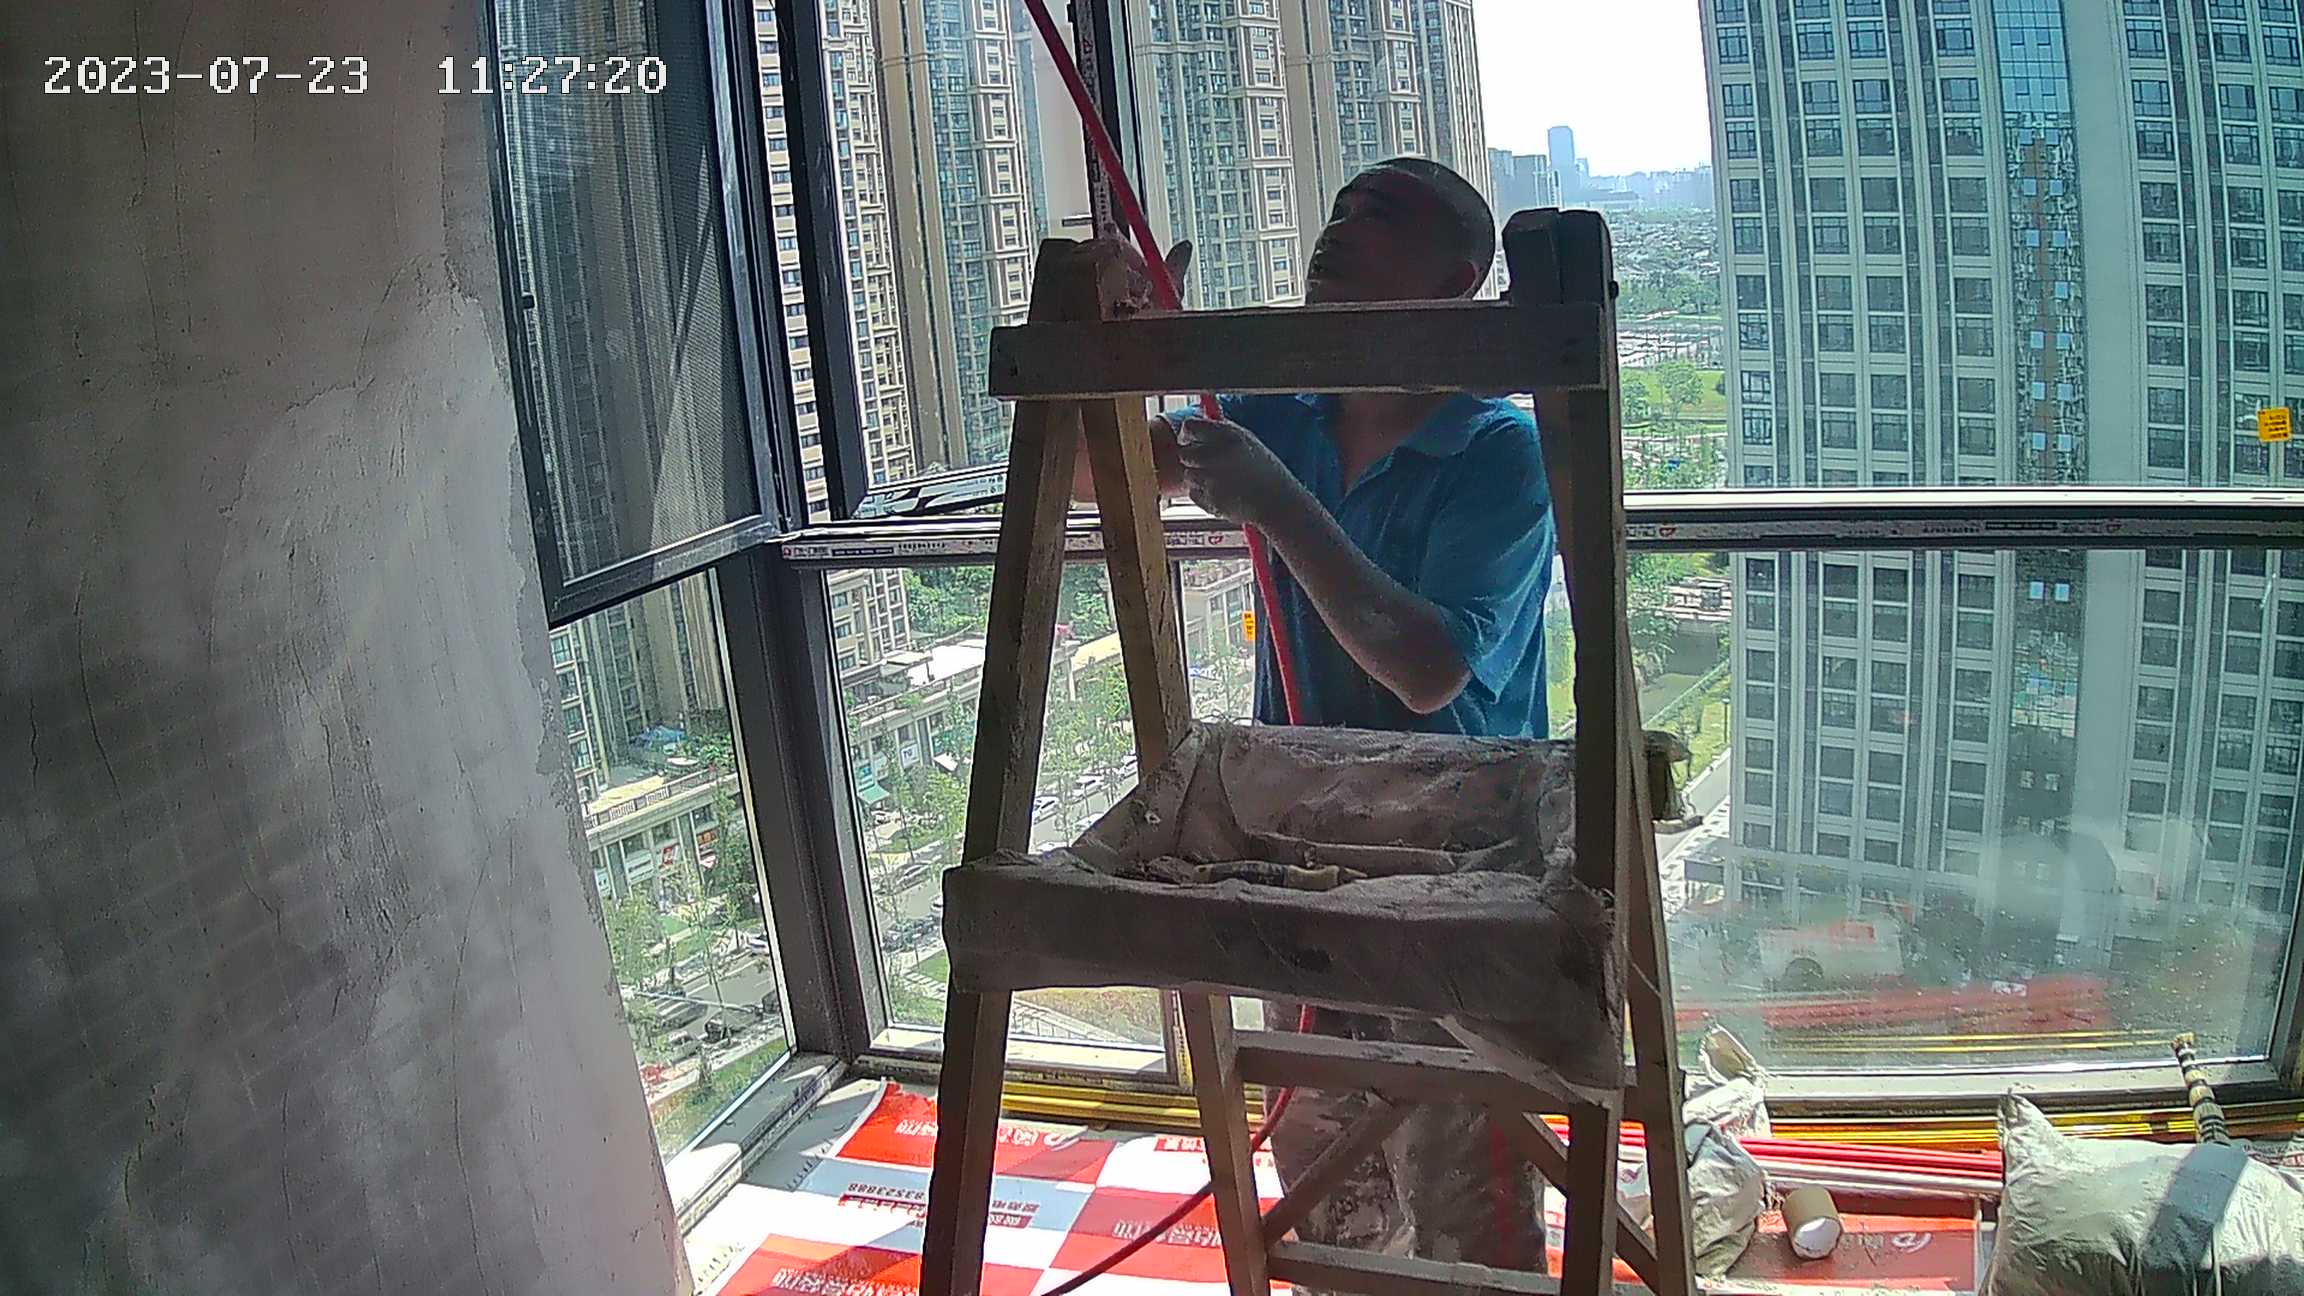people: (1117, 149, 1580, 1274)
window: (488, 5, 2304, 1110)
